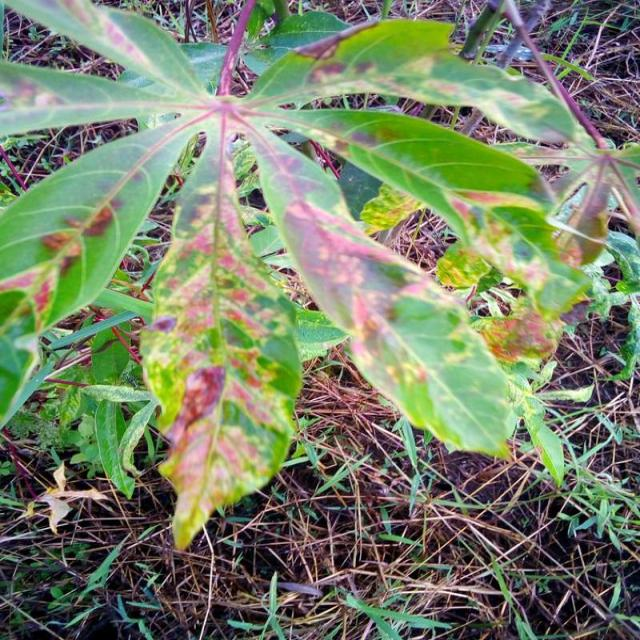cassava leaf: (0, 1, 634, 549), (238, 109, 522, 461), (138, 117, 302, 550)
